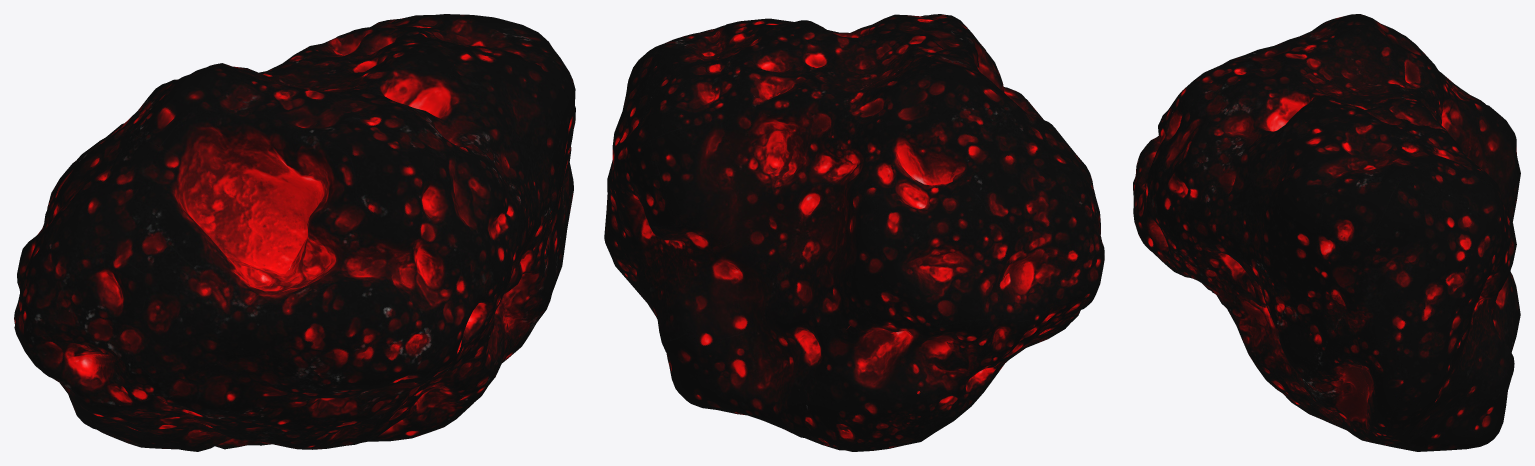
The model's file is meteorite.glb.
3 renders of one model, left to right at view 1: azimuth 30°, elevation 25°; view 2: azimuth 150°, elevation 25°; view 3: azimuth 270°, elevation 25°, orthographic. The views are drawn at different scales.
Visible parts, largest first — view 1: Object_2; view 2: Object_2; view 3: Object_2.
Part boxes in pixels (bbox=[...]): Object_2: bbox=[14, 14, 575, 451]; Object_2: bbox=[604, 14, 1104, 451]; Object_2: bbox=[1133, 14, 1520, 451].
Size of the model in its own units: 16.92 by 12.18 by 12.23.
Materials: 1 (1 with a texture image).
